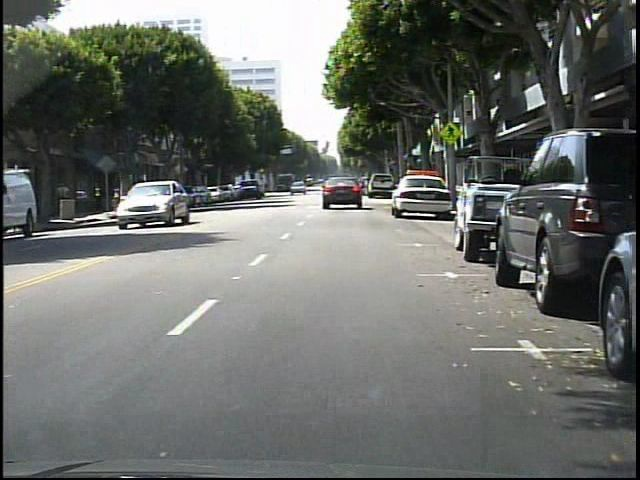person: (56, 179, 74, 221)
